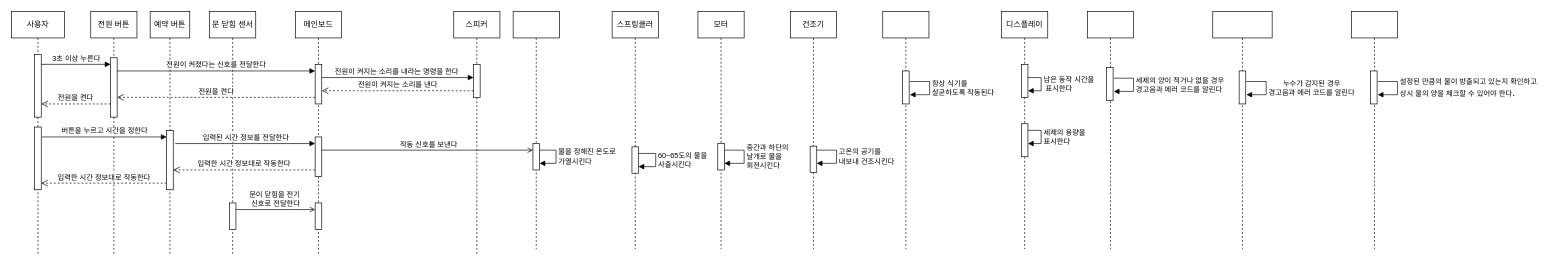
Some shapes in this 1551 by 267 pixel diagram are drawn without their labels. Each missing label, with the box of its shape:
UV램프: (882, 11, 929, 249)
누수 감지 센서: (1212, 11, 1272, 249)
물 가열부: (512, 11, 559, 249)
물 방출 센서: (1351, 11, 1398, 249)
세제통 센서: (1087, 11, 1134, 249)
